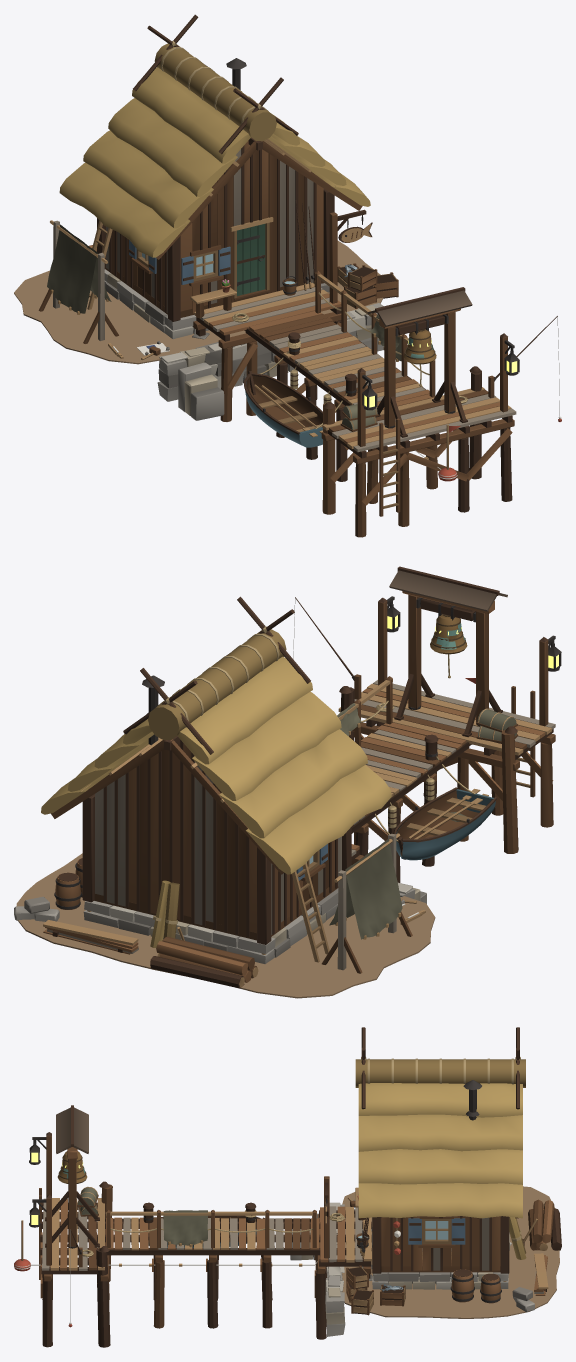
Rendered from dock.glb.
3 views of the same model, one above another, from view 1: azimuth 30°, elevation 25°; view 2: azimuth 150°, elevation 25°; view 3: azimuth 270°, elevation 25° (orthographic). The views are drawn at different scales.
Visible parts, largest first — view 1: stage_07_mesh, stage_06_mesh, stage_04_mesh, stage_03_mesh, stage_12_mesh, stage_01_mesh, stage_02_mesh, stage_05_mesh, stage_11_mesh, stage_08_mesh, stage_09_mesh, boat (+2 smaller); view 2: stage_07_mesh, stage_06_mesh, stage_01_mesh, stage_04_mesh, stage_03_mesh, stage_12_mesh, stage_05_mesh, stage_02_mesh, boat, stage_11_mesh, net_01, stage_09_mesh (+2 smaller); view 3: stage_07_mesh, stage_04_mesh, stage_03_mesh, stage_01_mesh, stage_06_mesh, stage_12_mesh, stage_11_mesh, stage_02_mesh, stage_09_mesh, stage_05_mesh, net_02, stage_08_mesh (+1 smaller).
Part boxes in pixels (left/top/right/bottom): stage_07_mesh: left=59, top=14, right=370, bottom=257; stage_06_mesh: left=106, top=140, right=323, bottom=313; stage_04_mesh: left=194, top=282, right=516, bottom=458; stage_03_mesh: left=89, top=245, right=514, bottom=537; stage_12_mesh: left=329, top=209, right=519, bottom=446; stage_01_mesh: left=14, top=240, right=460, bottom=481; stage_02_mesh: left=104, top=269, right=383, bottom=420; stage_05_mesh: left=87, top=137, right=362, bottom=321; stage_11_mesh: left=38, top=200, right=561, bottom=431; stage_08_mesh: left=128, top=58, right=297, bottom=318; stage_09_mesh: left=287, top=271, right=467, bottom=516; boat: left=243, top=371, right=322, bottom=447; stage_07_mesh: left=41, top=596, right=391, bottom=947; stage_06_mesh: left=95, top=739, right=341, bottom=937; stage_01_mesh: left=16, top=678, right=475, bottom=998; stage_04_mesh: left=43, top=680, right=555, bottom=954; stage_03_mesh: left=150, top=686, right=555, bottom=988; stage_12_mesh: left=378, top=566, right=561, bottom=737; stage_05_mesh: left=51, top=736, right=351, bottom=962; stage_02_mesh: left=14, top=882, right=426, bottom=963; boat: left=393, top=787, right=496, bottom=860; stage_11_mesh: left=54, top=597, right=517, bottom=973; net_01: left=329, top=838, right=402, bottom=939; stage_09_mesh: left=338, top=676, right=535, bottom=828; stage_07_mesh: left=355, top=1027, right=526, bottom=1259; stage_04_mesh: left=40, top=1198, right=548, bottom=1295; stage_03_mesh: left=40, top=1181, right=561, bottom=1347; stage_01_mesh: left=14, top=1186, right=559, bottom=1318; stage_06_mesh: left=381, top=1216, right=500, bottom=1271; stage_12_mesh: left=29, top=1105, right=329, bottom=1265; stage_11_mesh: left=68, top=1186, right=501, bottom=1327; stage_02_mesh: left=290, top=1202, right=534, bottom=1336; stage_09_mesh: left=39, top=1188, right=316, bottom=1279; stage_05_mesh: left=363, top=1216, right=518, bottom=1273; net_02: left=163, top=1210, right=207, bottom=1247; stage_08_mesh: left=355, top=1080, right=481, bottom=1248.
Size of the model in its own units: 8.2 by 7.61 by 13.69.
